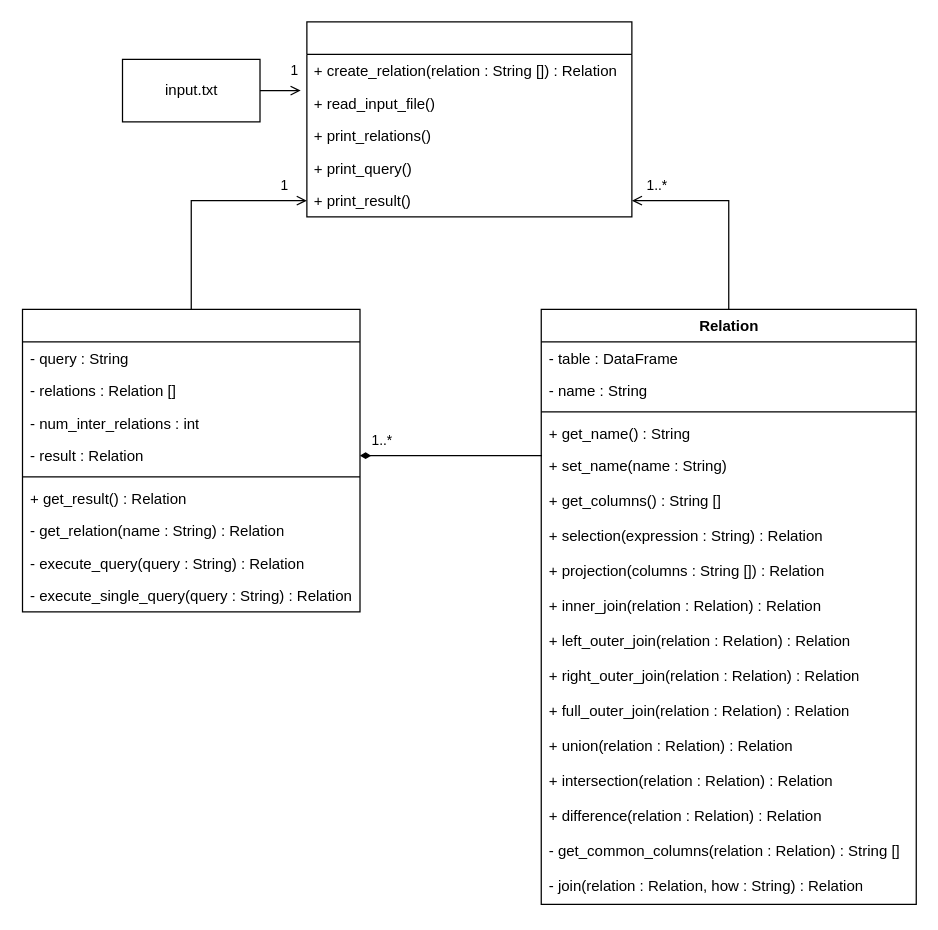
Image size: 938x930. Some labels were removed from this diagram. Each missing label, with the box of its shape:
main.py: (306, 21, 632, 217)
QueryExecutor: (21, 308, 360, 612)
